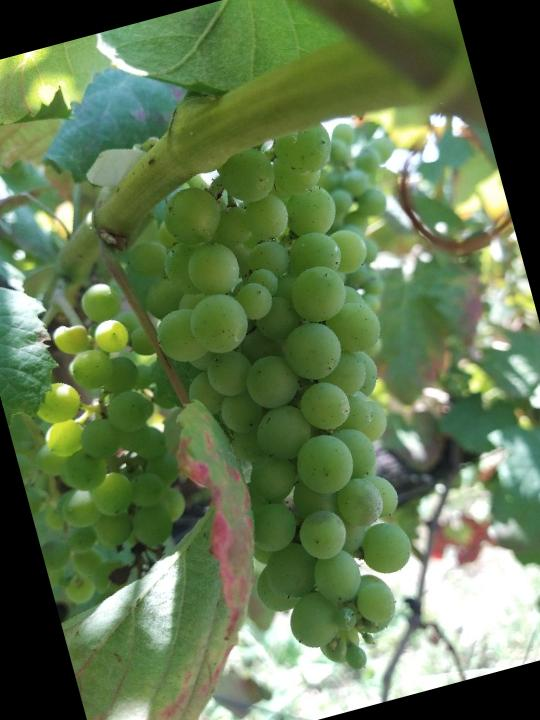grape: (98, 115, 481, 708)
